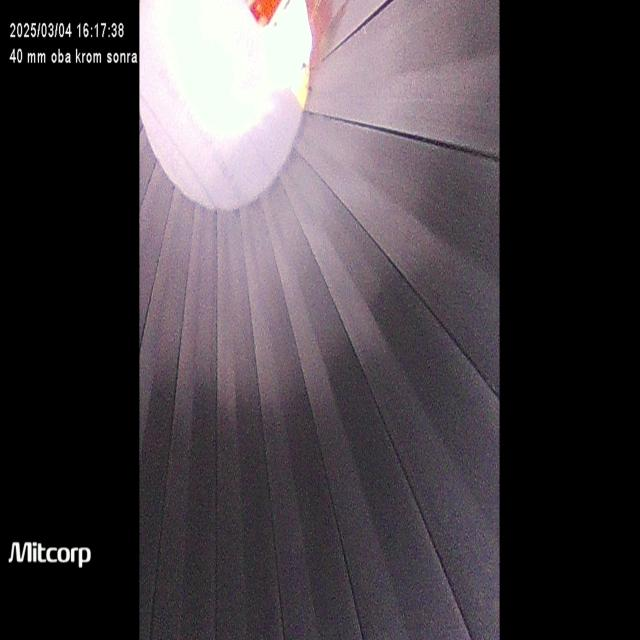hata_8.1: (193, 290, 366, 540)
